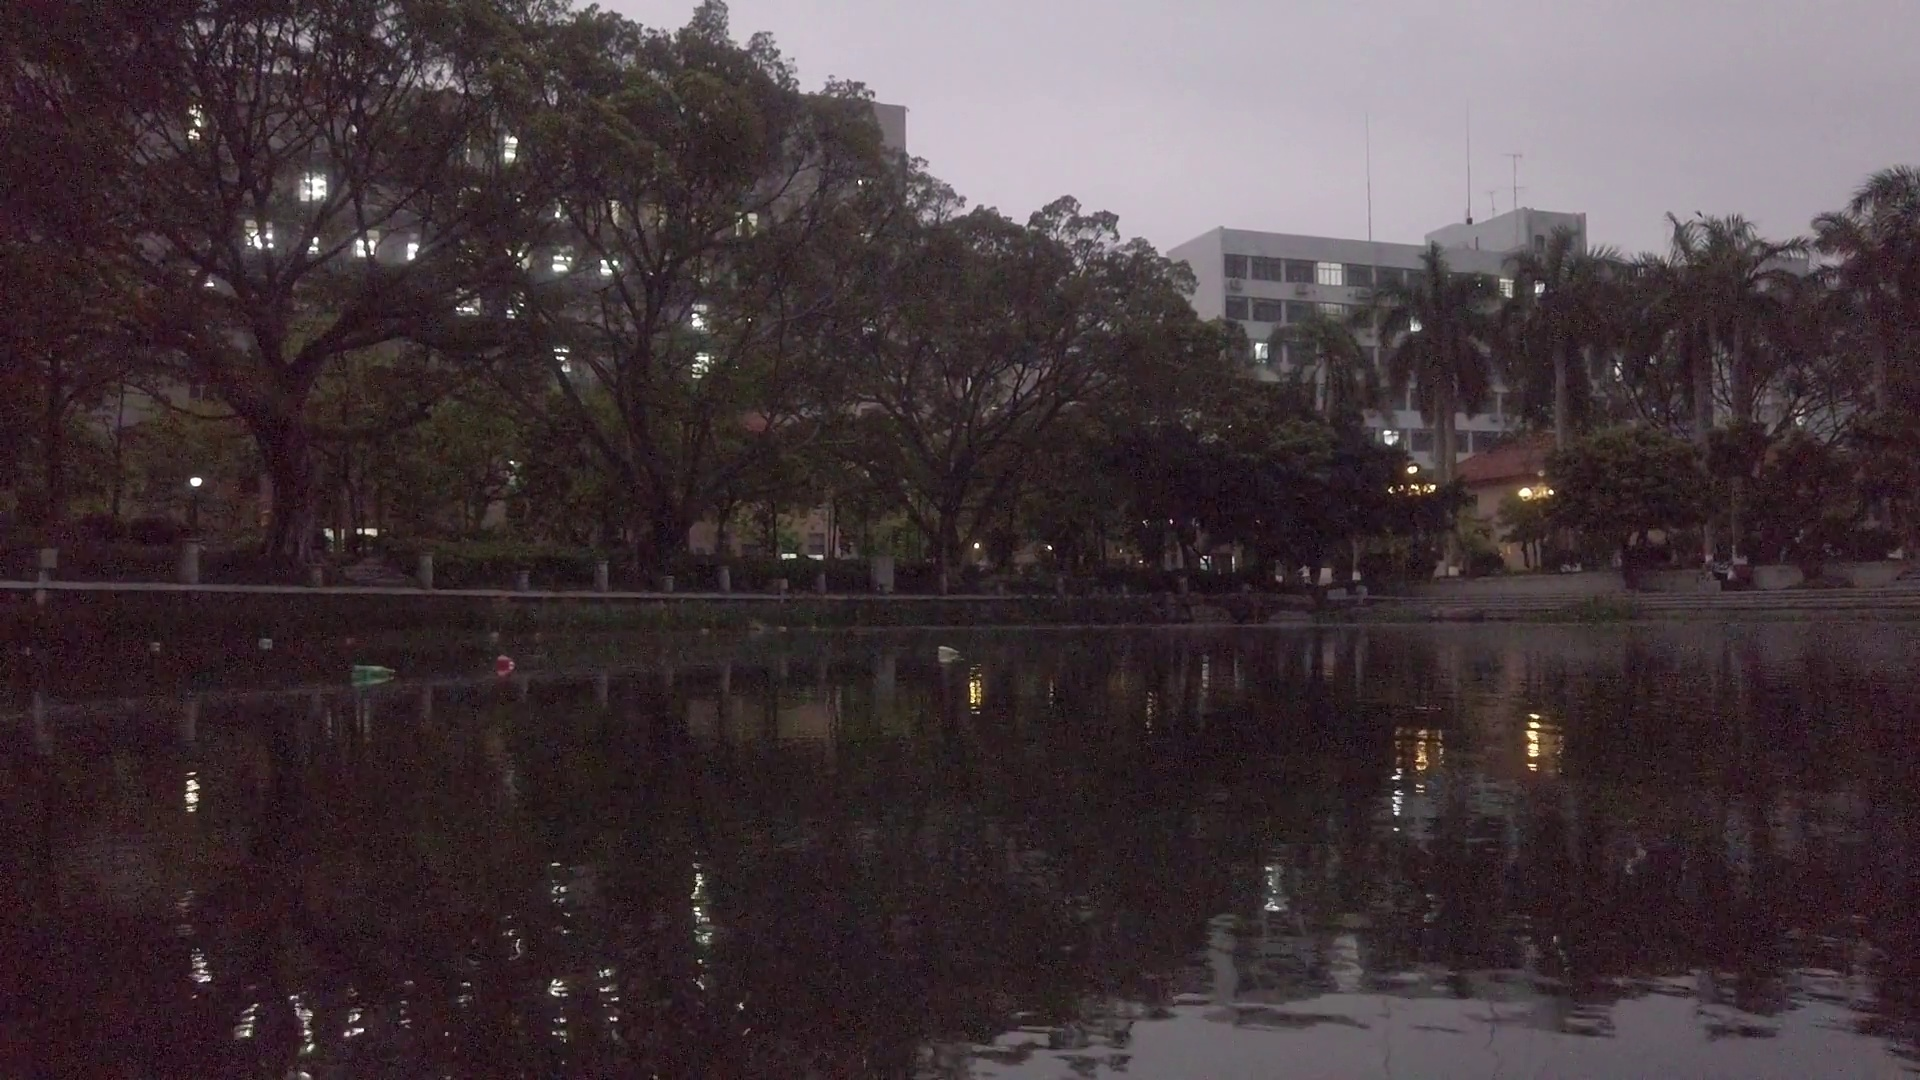bottle: (351, 665, 397, 683), (939, 644, 959, 661), (496, 655, 517, 669), (146, 640, 167, 651), (699, 622, 715, 638), (342, 637, 355, 647), (778, 622, 791, 633)
carton: (253, 634, 273, 649)
